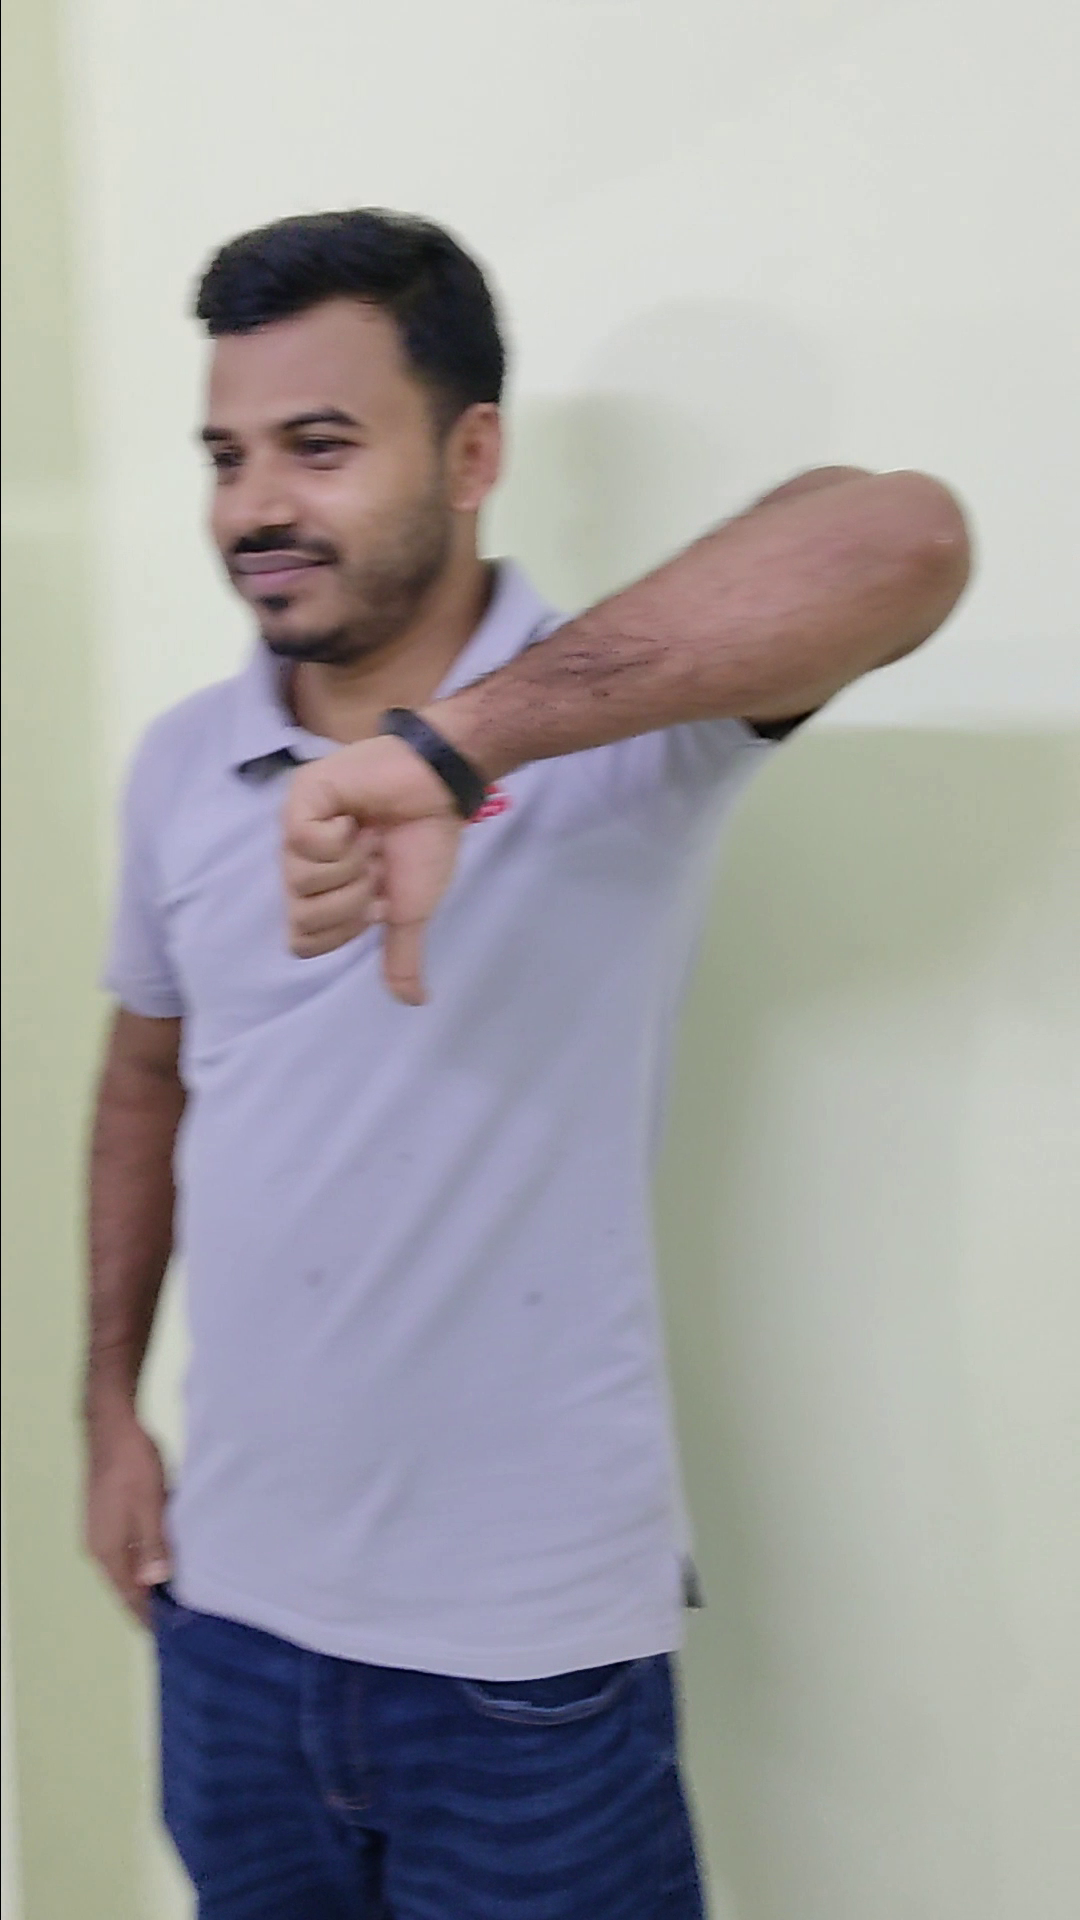Dislike: (249, 705, 480, 1030)
None: (66, 1373, 214, 1665)
